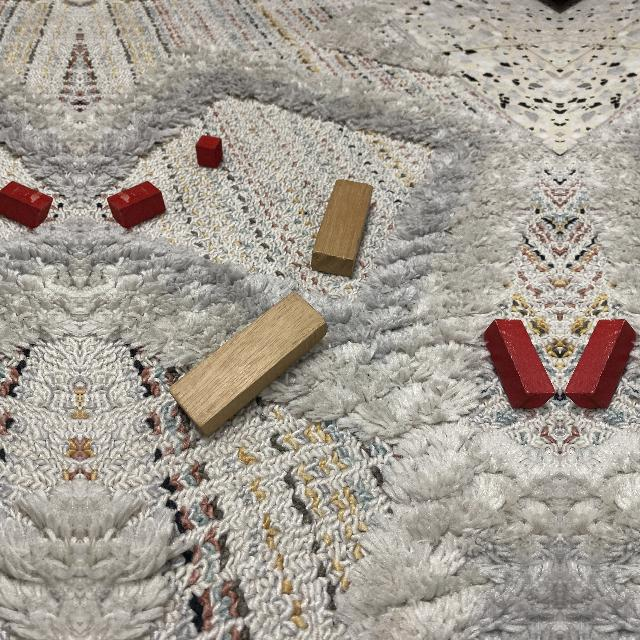jenga: (167, 291, 328, 437), (311, 179, 373, 278)
red block: (483, 319, 556, 408), (564, 319, 637, 408), (106, 181, 167, 230), (0, 181, 54, 230)
red cube: (195, 134, 224, 170)
